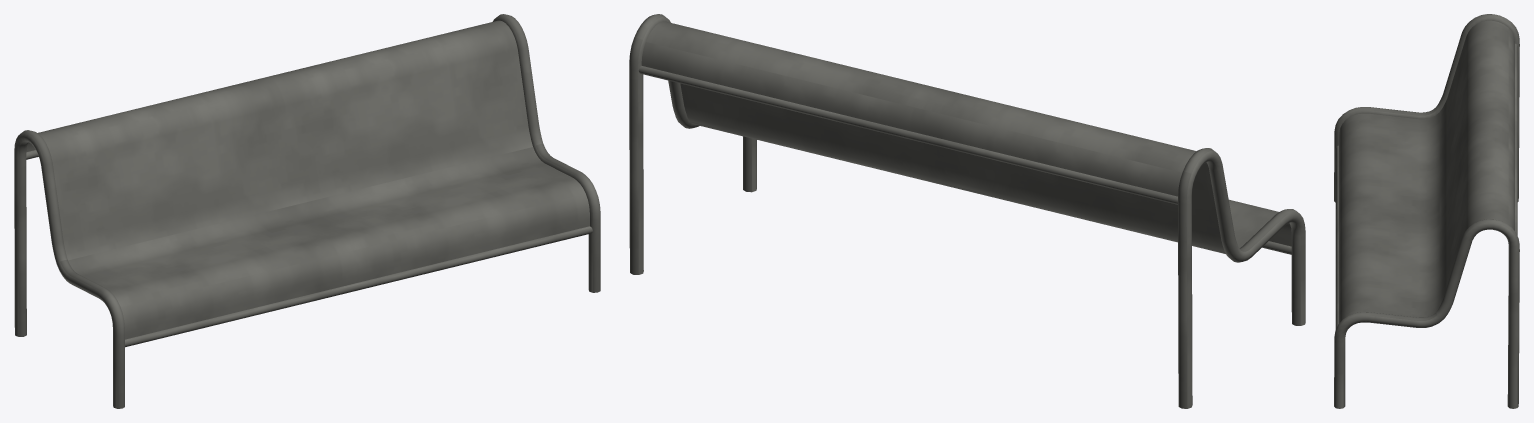
Rendered from bench_urban.glb.
3 views of the same model, side by side, from view 1: azimuth 30°, elevation 25°; view 2: azimuth 150°, elevation 25°; view 3: azimuth 270°, elevation 25° (orthographic). The views are drawn at different scales.
Parts seen in each view (by area): view 1: bench_urban; view 2: bench_urban; view 3: bench_urban.
Boxes of the visible parts, <box> form: bench_urban: <box>14,14,600,408</box>; bench_urban: <box>629,14,1305,408</box>; bench_urban: <box>1334,14,1519,408</box>.
Bounding box in the file's own units: 2.07 × 0.8587 × 0.7719.
Materials: 1 (1 with a texture image).
